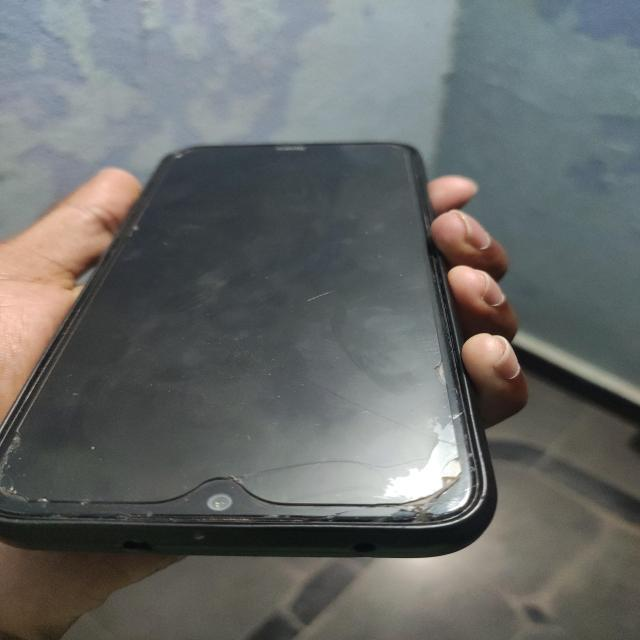cellphone: (21, 104, 576, 592)
